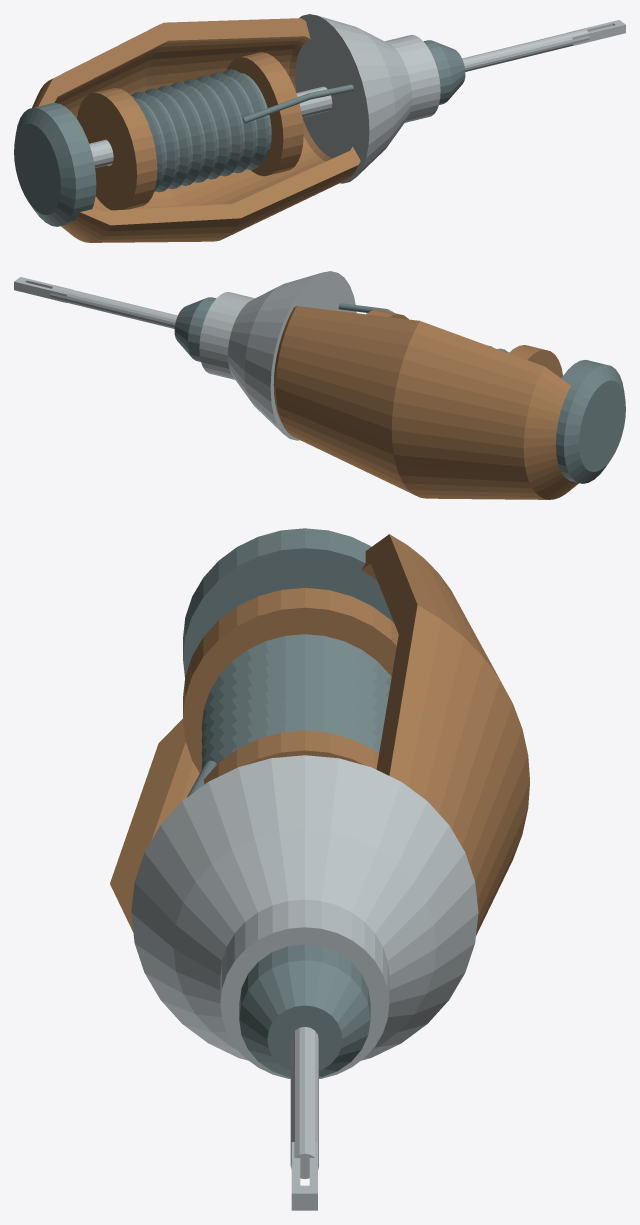
The picture shows the model from 3 angles, top to bottom: view 1: azimuth 30°, elevation 25°; view 2: azimuth 150°, elevation 25°; view 3: azimuth 270°, elevation 25°; orthographic projection. The views are drawn at different scales.
Visible parts, largest first — view 1: WholeWideCutawayBulgedGripShell, WholeFrontTaperedFerrule, WholeWoundThreadAppearance, WholeCompleteInternalBobbin, WholeProudRearCap, WholeBluntNeedleStem, WholeShortColletNose, WholeInternalBobbinSpindle, WholeShortThreadLead, WholeOpenEyeBluntNeedleEnd; view 2: WholeWideCutawayBulgedGripShell, WholeFrontTaperedFerrule, WholeProudRearCap, WholeBluntNeedleStem, WholeShortColletNose, WholeCompleteInternalBobbin, WholeOpenEyeBluntNeedleEnd; view 3: WholeFrontTaperedFerrule, WholeWideCutawayBulgedGripShell, WholeWoundThreadAppearance, WholeCompleteInternalBobbin, WholeShortColletNose, WholeProudRearCap, WholeBluntNeedleStem, WholeOpenEyeBluntNeedleEnd.
Part boxes in pixels (box(x1,y1,x2,y2)): WholeWideCutawayBulgedGripShell: box(32, 18, 360, 242); WholeFrontTaperedFerrule: box(295, 14, 440, 183); WholeWoundThreadAppearance: box(130, 69, 271, 192); WholeCompleteInternalBobbin: box(77, 52, 303, 210); WholeProudRearCap: box(14, 102, 96, 226); WholeBluntNeedleStem: box(462, 28, 589, 71); WholeShortColletNose: box(423, 40, 465, 104); WholeInternalBobbinSpindle: box(89, 86, 332, 167); WholeShortThreadLead: box(242, 84, 353, 123); WholeOpenEyeBluntNeedleEnd: box(567, 20, 625, 45); WholeWideCutawayBulgedGripShell: box(273, 306, 578, 499); WholeFrontTaperedFerrule: box(199, 271, 356, 440); WholeProudRearCap: box(555, 359, 625, 483); WholeBluntNeedleStem: box(50, 285, 177, 328); WholeShortColletNose: box(174, 297, 216, 361); WholeCompleteInternalBobbin: box(366, 309, 562, 378); WholeOpenEyeBluntNeedleEnd: box(14, 277, 72, 302); WholeFrontTaperedFerrule: box(131, 755, 478, 1078); WholeWideCutawayBulgedGripShell: box(110, 534, 529, 935); WholeWoundThreadAppearance: box(201, 634, 391, 768); WholeCompleteInternalBobbin: box(183, 588, 398, 784); WholeShortColletNose: box(239, 944, 370, 1077); WholeProudRearCap: box(183, 528, 394, 676); WholeBluntNeedleStem: box(290, 1027, 318, 1178); WholeOpenEyeBluntNeedleEnd: box(291, 1142, 317, 1210).
Bounding box in the file's own units: 0.144 × 0.0448 × 0.0448.
